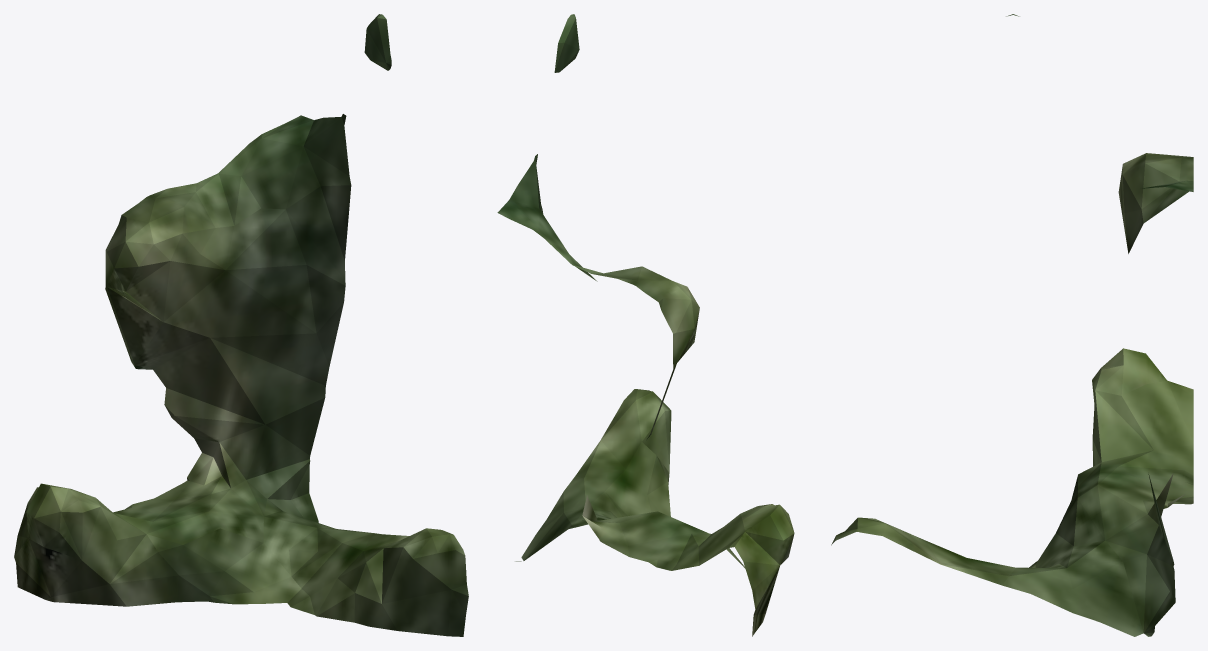
The picture shows the model from 3 angles, left to right: view 1: azimuth 30°, elevation 25°; view 2: azimuth 150°, elevation 25°; view 3: azimuth 270°, elevation 25°; orthographic projection. The views are drawn at different scales.
Bounding box in the file's own units: 1.33 × 2.4 × 1.29.
Materials: 1 (1 with a texture image).
